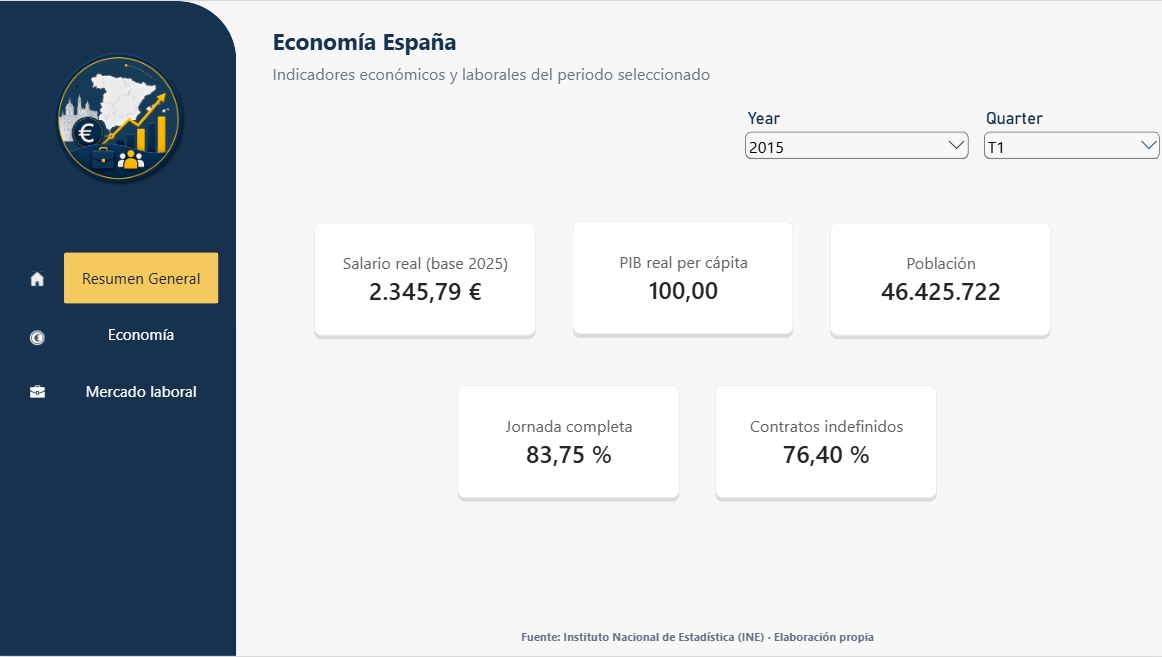

Layout of this report page (visuals, bound fields, positions):
{"tool":"powerbi","page":{"name":"Resumen General","canvas":[1920,1080],"ordinal":0},"visuals":[{"type":"textbox","box":[449.2,40.4,404.1,59.5],"z":0},{"type":"slicer","fields":{"Values":["DimPeriod.quarter"]},"box":[1616.7,178,300.5,238.8],"z":1000},{"type":"slicer","fields":{"Values":["DimPeriod.year"]},"box":[1223.2,178,376.7,238.8],"z":2000},{"type":"cardVisual","fields":{"Data":["Sum(purchasing_power_gold.real_salary_base_2025)"]},"box":[509.8,357.3,378.6,199.9],"z":3000},{"type":"cardVisual","fields":{"Data":["Sum(gdp_per_capita_gold.gdp_per_capita_index)"]},"box":[936.9,356.9,376.7,199.7],"z":4000},{"type":"cardVisual","fields":{"Data":["Sum(population_quarterly_gold.population_quarterly)"]},"box":[1360.5,357.7,376.4,199.9],"z":5000},{"type":"cardVisual","fields":{"Data":["Sum(employment_contract_gold.indefinite_pct)"]},"box":[1171.2,625.3,378.6,199.9],"z":6000},{"type":"cardVisual","fields":{"Data":["Sum(work_schedule_gold.full_time_pct)"]},"box":[748,625.3,378.6,199.9],"z":7000},{"type":"group","id":"g1","title":"Barra izquierda","box":[0,0,389.2,1080.4],"z":8000},{"type":"shape","box":[0,0,389.2,1080.4],"z":8000,"group":"g1"},{"type":"textbox","box":[449.2,100,727.3,57.4],"z":9000},{"type":"pageNavigator","box":[105.9,414.3,255.2,272.2],"z":9000,"group":"g1"},{"type":"actionButton","box":[17.1,418.7,89.4,80.5],"z":10000,"group":"g1"},{"type":"textbox","box":[693.7,1033.3,910.2,46.8],"z":10000},{"type":"actionButton","box":[17.1,513.8,89.4,80.5],"z":11000,"group":"g1"},{"type":"actionButton","box":[19.5,604.1,87,80.5],"z":12000,"group":"g1"},{"type":"shape","box":[79.8,78.7,228.7,229.2],"z":12500,"group":"g1"},{"type":"image","box":[22.3,81.9,344.5,223.3],"z":13000,"group":"g1"}]}

Visuals, with their boxes in screenshot pixels (x1, y1, x2, y2), scaled from the page's 1920x1080 canvas onto the 1162x657 screenshot:
textbox: BBox(272, 25, 516, 61)
slicer - DimPeriod.quarter: BBox(978, 108, 1160, 254)
slicer - DimPeriod.year: BBox(740, 108, 968, 254)
cardVisual - Sum(purchasing_power_gold.real_salary_base_2025): BBox(309, 217, 538, 339)
cardVisual - Sum(gdp_per_capita_gold.gdp_per_capita_index): BBox(567, 217, 795, 339)
cardVisual - Sum(population_quarterly_gold.population_quarterly): BBox(823, 218, 1051, 339)
cardVisual - Sum(employment_contract_gold.indefinite_pct): BBox(709, 380, 938, 502)
cardVisual - Sum(work_schedule_gold.full_time_pct): BBox(453, 380, 682, 502)
"Barra izquierda" group: BBox(0, 0, 236, 656)
shape: BBox(0, 0, 236, 656)
textbox: BBox(272, 61, 712, 96)
pageNavigator: BBox(64, 252, 219, 418)
actionButton: BBox(10, 255, 64, 304)
textbox: BBox(420, 629, 971, 656)
actionButton: BBox(10, 313, 64, 362)
actionButton: BBox(12, 367, 64, 416)
shape: BBox(48, 48, 187, 187)
image: BBox(13, 50, 222, 186)
